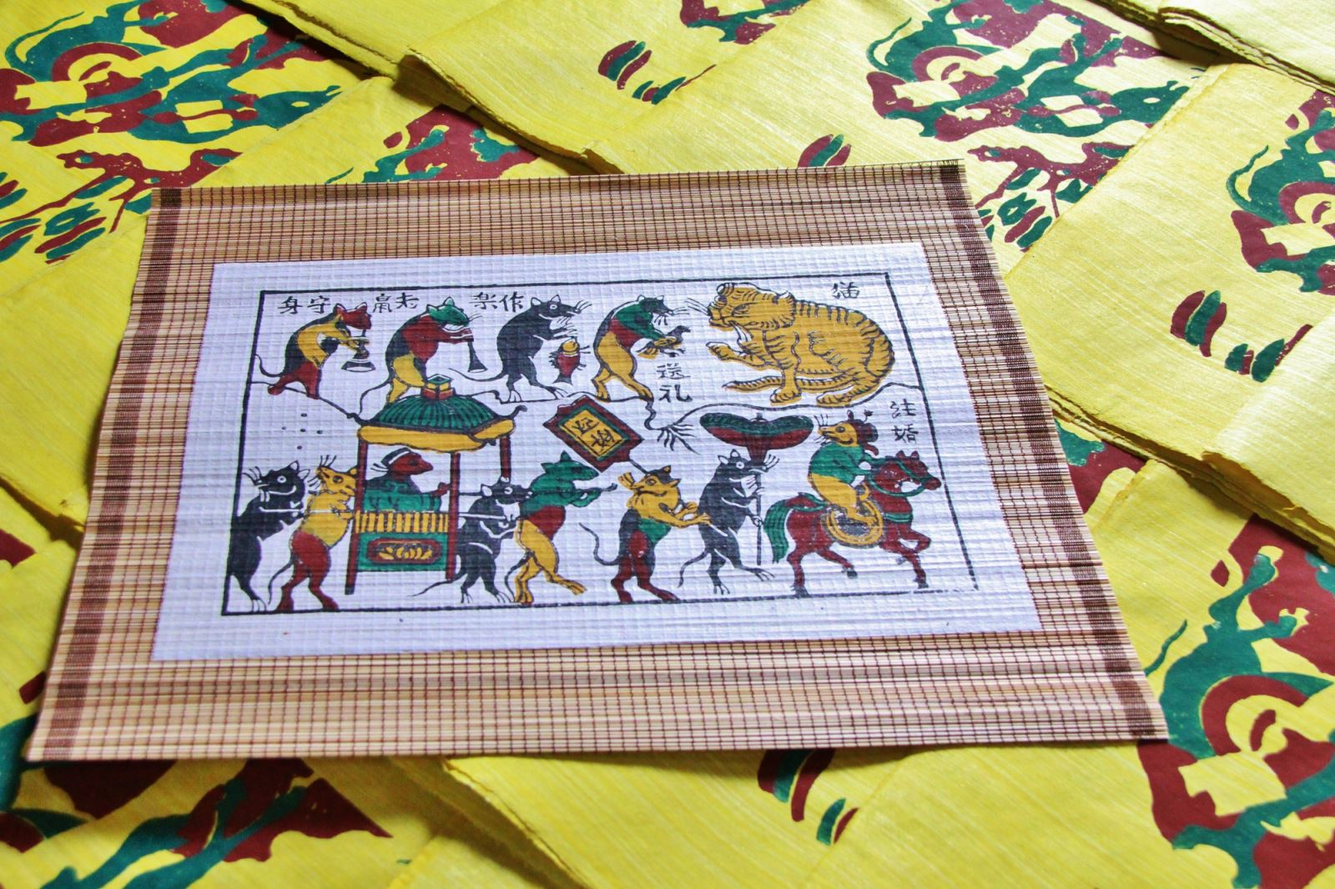chuot_chu_re: (764, 413, 943, 594)
chuot_co_dau: (345, 375, 514, 595)
chuot_khenh_kieu: (458, 453, 603, 602), (230, 466, 357, 610)
chuot_mang_le_vat: (593, 297, 688, 401), (496, 296, 590, 394), (552, 343, 581, 382)
chuot_nguoi_hau: (603, 413, 814, 602), (546, 397, 642, 469)
chuot_nhac_cong: (261, 303, 373, 399), (385, 298, 484, 400)
ho_uy_nghi: (707, 282, 893, 406)
